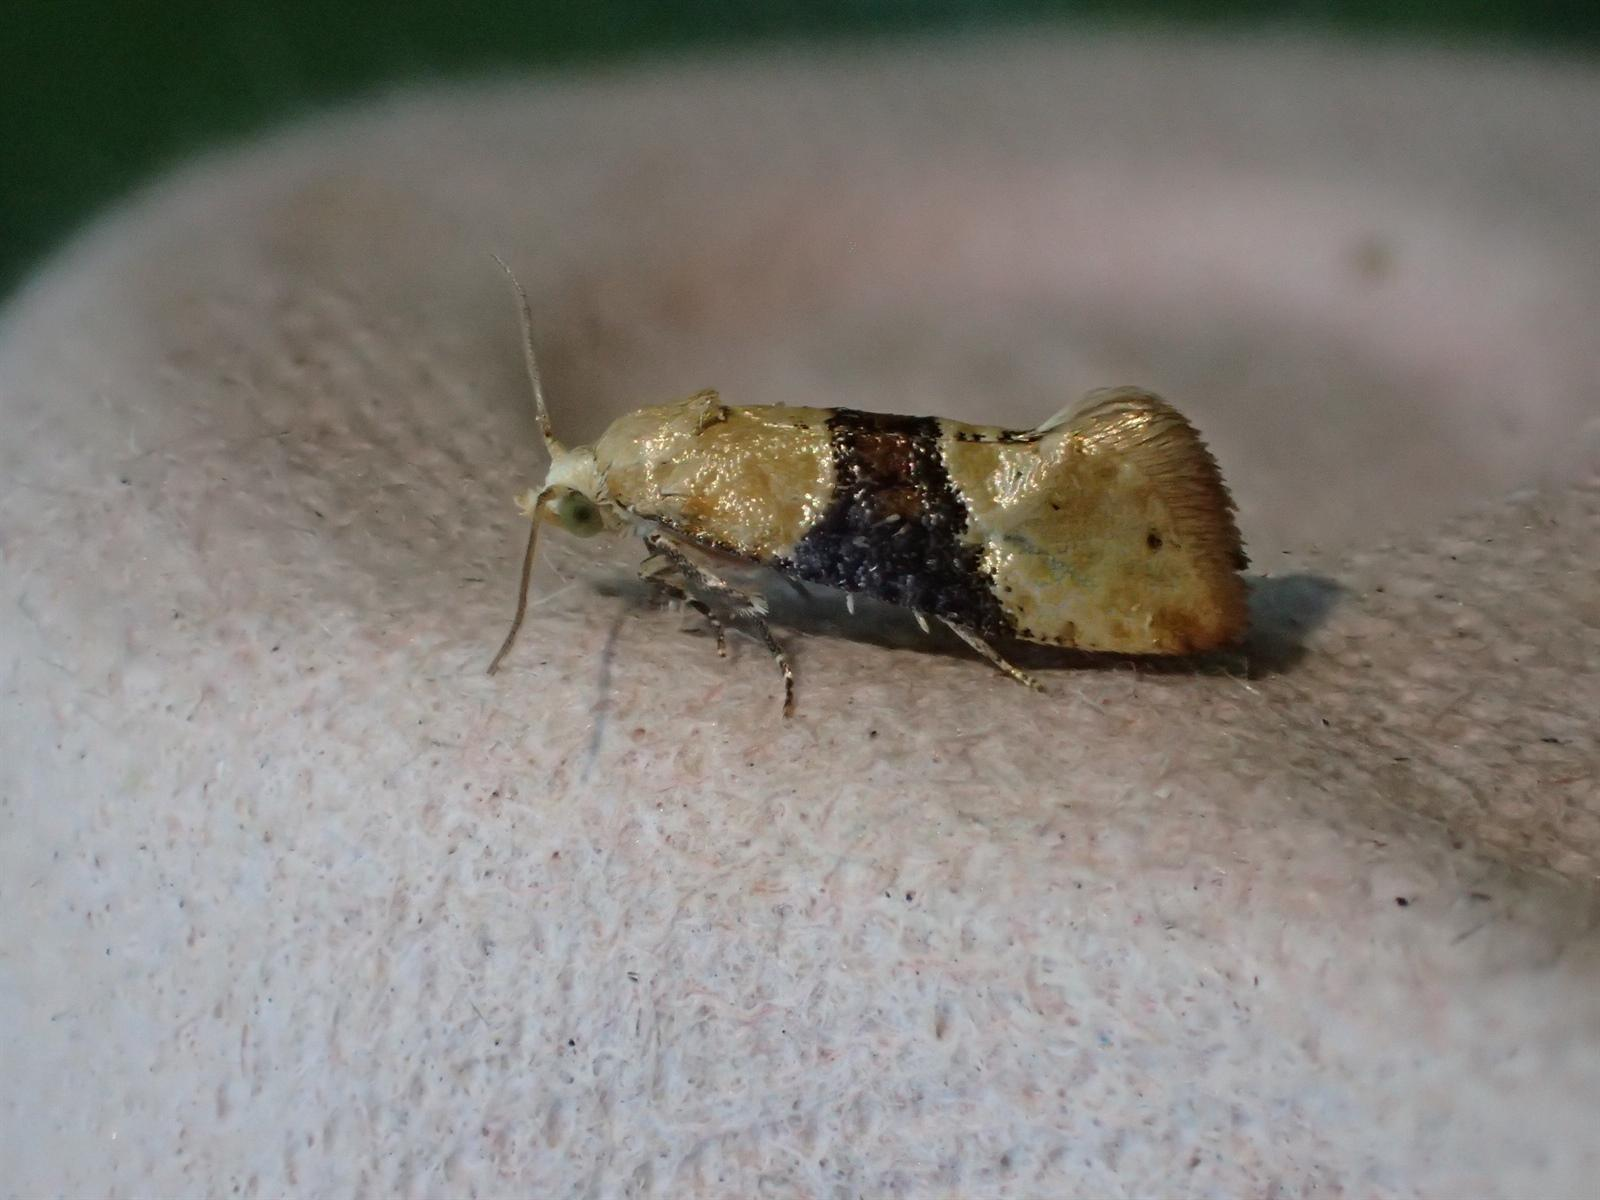Eupoecilia Ambiguella: (466, 242, 1264, 734)
